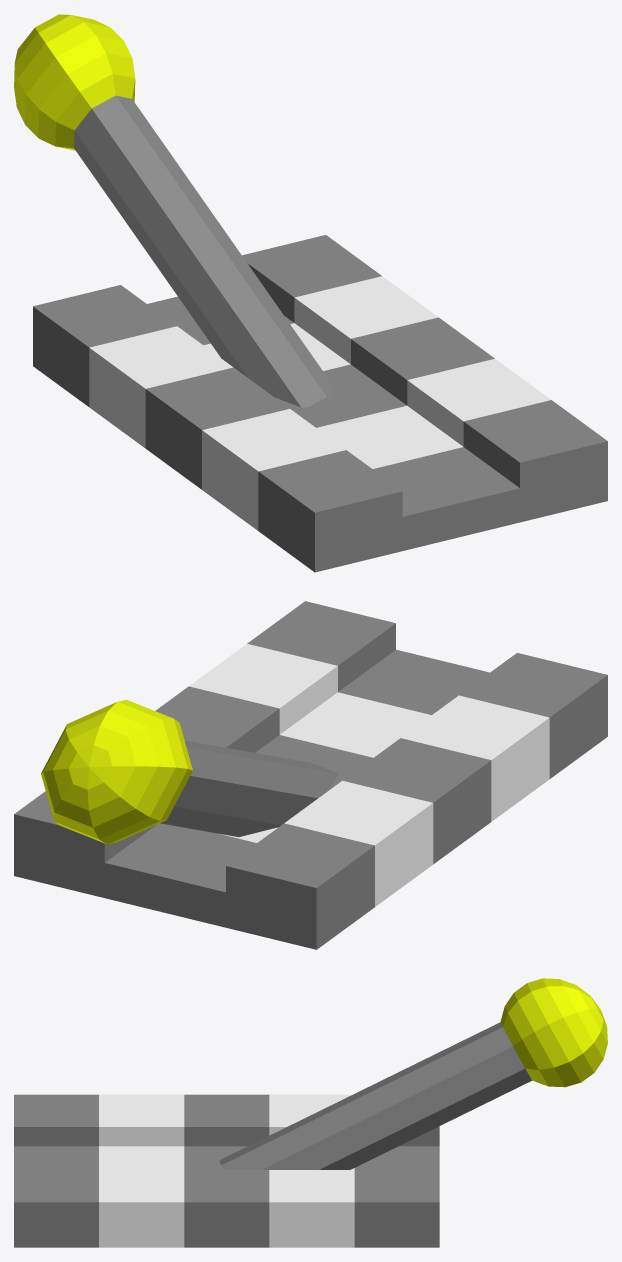
File: Lever.fbx
The picture shows the model from 3 angles, top to bottom: view 1: azimuth 30°, elevation 25°; view 2: azimuth 150°, elevation 25°; view 3: azimuth 270°, elevation 25°; orthographic projection. The views are drawn at different scales.
Visible parts, largest first — view 1: LeverBase, LeverHandle; view 2: LeverBase, LeverHandle; view 3: LeverBase, LeverHandle.
Boxes of the visible parts, x1=… form: LeverBase: x1=33, y1=235, x2=607, y2=572; LeverHandle: x1=14, y1=14, x2=331, y2=407; LeverBase: x1=14, y1=601, x2=607, y2=949; LeverHandle: x1=41, y1=699, x2=337, y2=844; LeverBase: x1=14, y1=1094, x2=439, y2=1247; LeverHandle: x1=219, y1=978, x2=607, y2=1169.
Bounding box in the file's own units: 36 × 83.7 × 34.2.
